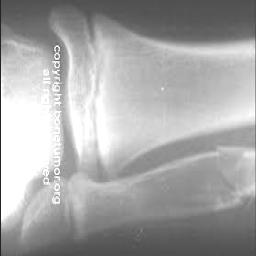cancer: (119, 147, 253, 227)
